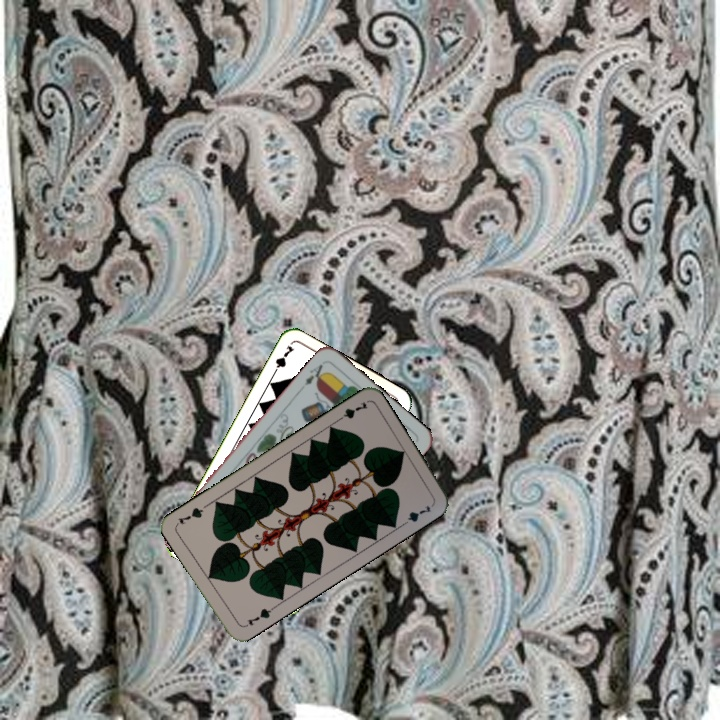EA: (298, 360, 329, 392)
G7: (268, 341, 297, 379), (332, 397, 370, 425), (240, 603, 277, 630)
